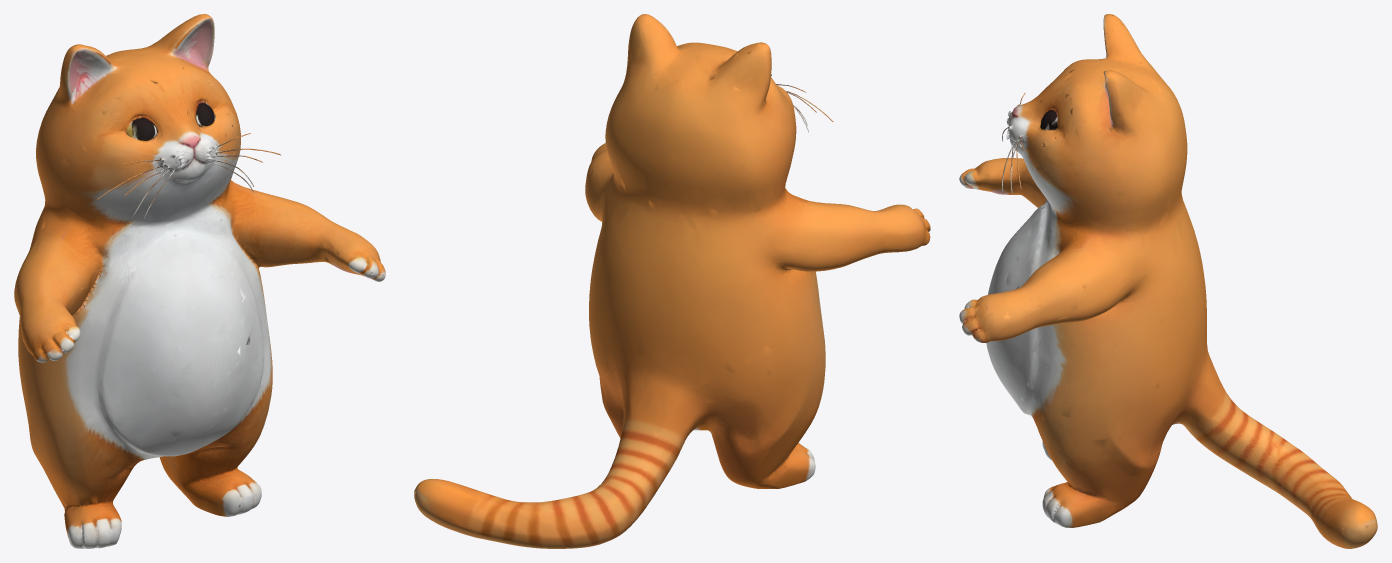
The model's file is chubby-cat.glb.
The picture shows the model from 3 angles, left to right: view 1: azimuth 30°, elevation 25°; view 2: azimuth 150°, elevation 25°; view 3: azimuth 270°, elevation 25°; orthographic projection. The views are drawn at different scales.
Bounding box in the file's own units: 1.46 × 1.91 × 1.63.
Materials: 1 (1 with a texture image).
